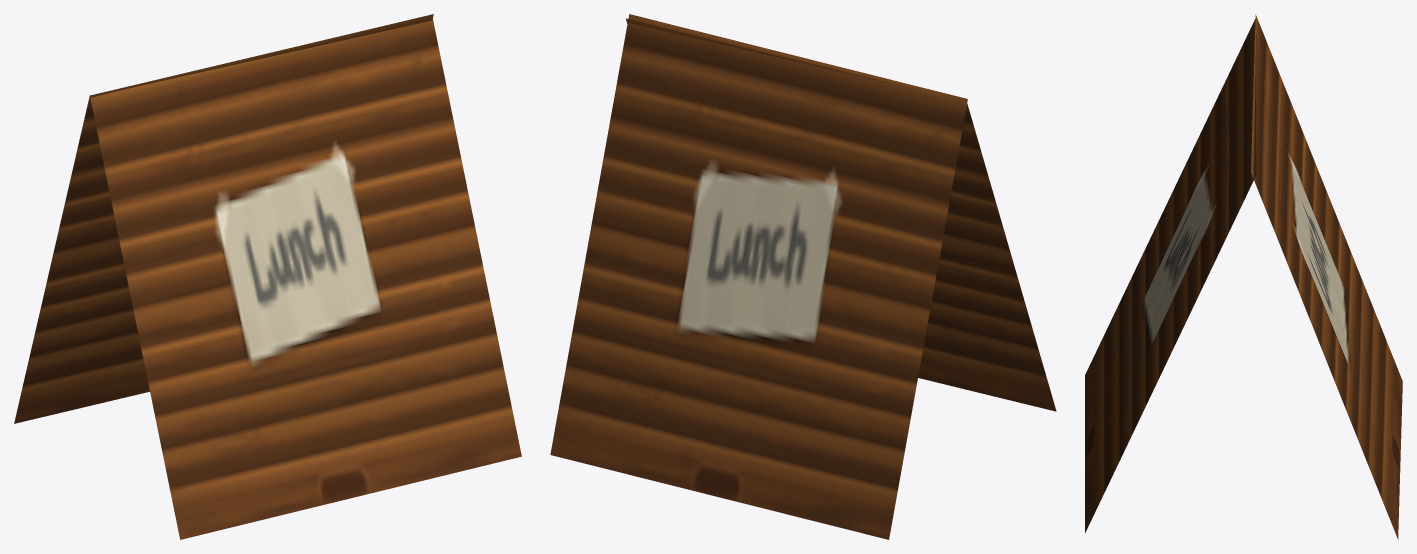
The model's file is signboard2.FBX.
3 views of the same model, side by side, from view 1: azimuth 30°, elevation 25°; view 2: azimuth 150°, elevation 25°; view 3: azimuth 270°, elevation 25° (orthographic). The views are drawn at different scales.
Visible parts, largest first — view 1: Plane001; view 2: Plane001; view 3: Plane001.
Boxes of the visible parts, x1=… form: Plane001: x1=14, y1=14, x2=521, y2=539; Plane001: x1=550, y1=14, x2=1056, y2=539; Plane001: x1=1085, y1=14, x2=1402, y2=539.
Bounding box in the file's own units: 34.19 × 36.67 × 28.8.
